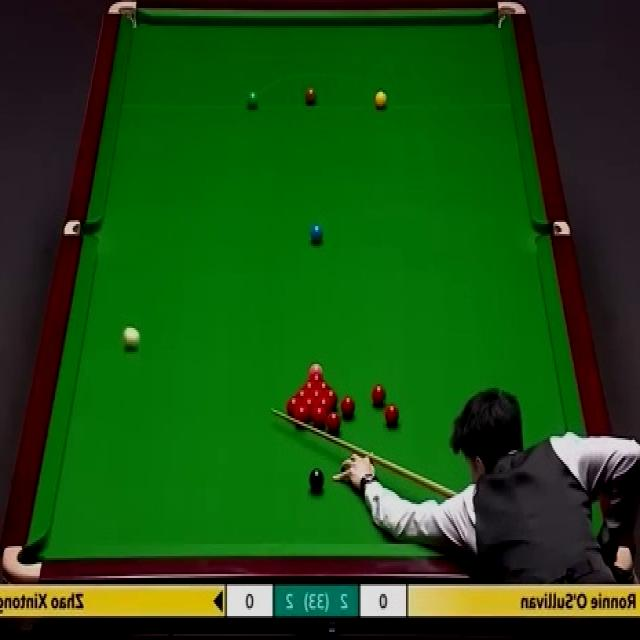black-ball: (309, 466, 325, 493)
blue-ball: (309, 224, 322, 247)
brown-ball: (305, 89, 317, 106)
green-ball: (247, 90, 258, 110)
pink-ball: (308, 360, 324, 376)
red-ball: (368, 382, 388, 408), (309, 404, 325, 428), (340, 394, 356, 416), (324, 412, 339, 435), (285, 396, 302, 416), (293, 407, 309, 428), (385, 403, 400, 425), (316, 397, 331, 412), (302, 398, 315, 415), (300, 382, 318, 392), (293, 389, 309, 400), (308, 372, 325, 382), (308, 390, 324, 400), (317, 382, 333, 391), (324, 390, 337, 401)
white-ball: (124, 324, 140, 350)
yellow-ball: (373, 89, 388, 110)
